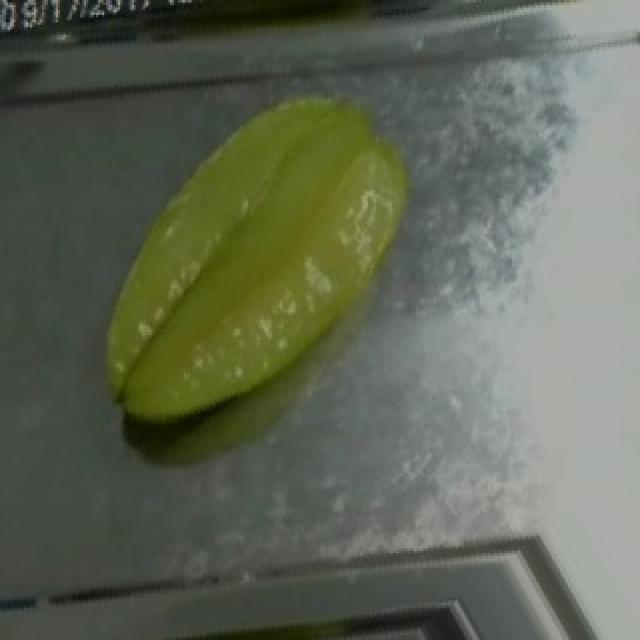fruit: (74, 64, 448, 449)
